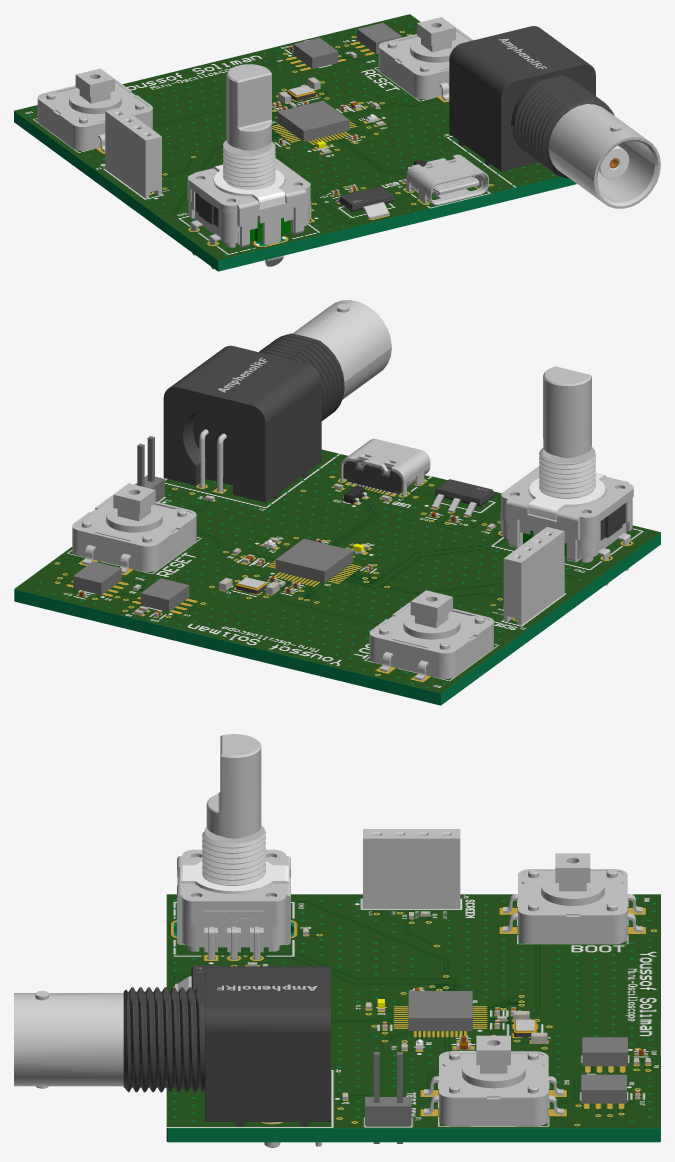
The model's file is oscilloscope-summer.glb.
3 renders of one model, top to bottom at view 1: azimuth 30°, elevation 25°; view 2: azimuth 150°, elevation 25°; view 3: azimuth 270°, elevation 25°, orthographic. The views are drawn at different scales.
Parts seen in each view (by area): view 1: 0.000,0.240,0.080, board-top; view 2: 0.000,0.240,0.080, board-top; view 3: 0.000,0.240,0.080, board-top.
Boxes of the visible parts, x1,y1,x2,y2 form: 0.000,0.240,0.080: (14, 17, 660, 271); board-top: (14, 14, 560, 259); 0.000,0.240,0.080: (14, 300, 660, 705); board-top: (14, 449, 660, 693); 0.000,0.240,0.080: (14, 734, 660, 1147); board-top: (166, 894, 660, 1128).
Bounding box in the file's own units: 0.0606 × 0.0267 × 0.0708.
Materials: 3 (3 with a texture image).
